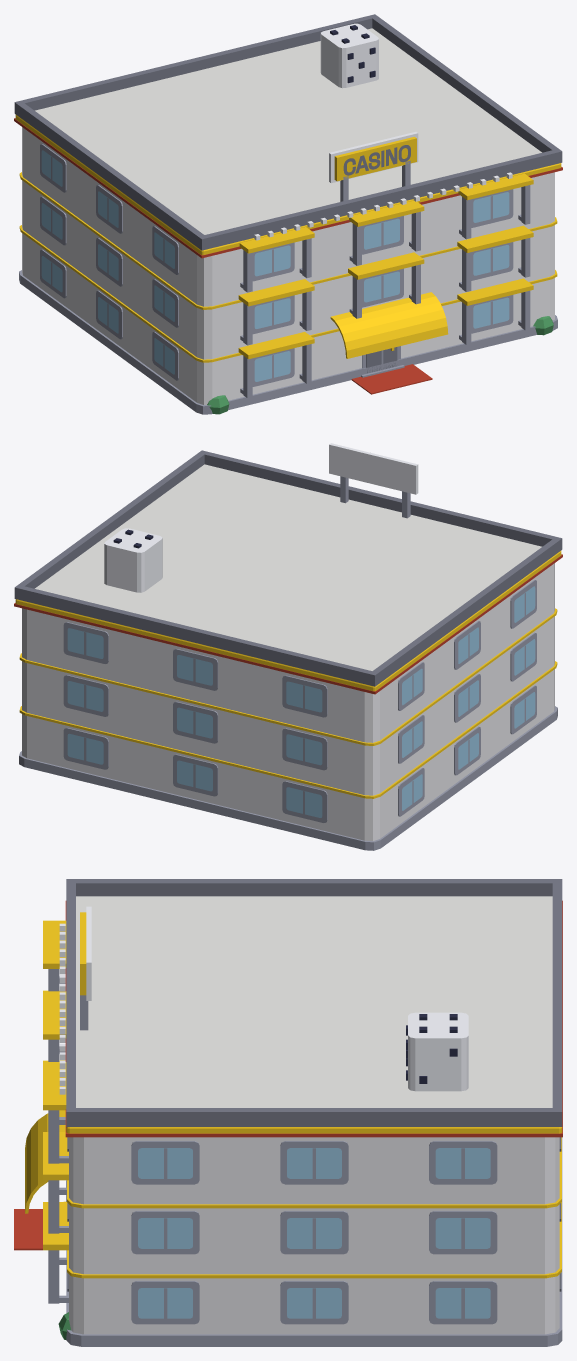
Rendered from casino-2x2-t1-tone-a.glb.
3 renders of one model, top to bottom at view 1: azimuth 30°, elevation 25°; view 2: azimuth 150°, elevation 25°; view 3: azimuth 270°, elevation 25°, orthographic. The views are drawn at different scales.
Visible parts, largest first — view 1: casino-2x2-t1-tone-a; view 2: casino-2x2-t1-tone-a; view 3: casino-2x2-t1-tone-a.
Part boxes in pixels (bbox=[...]): casino-2x2-t1-tone-a: bbox=[14, 14, 562, 414]; casino-2x2-t1-tone-a: bbox=[14, 443, 562, 850]; casino-2x2-t1-tone-a: bbox=[14, 879, 562, 1346].
Bounding box in the file's own units: 2 × 1.18 × 1.99.
1 material, 1 textured.
